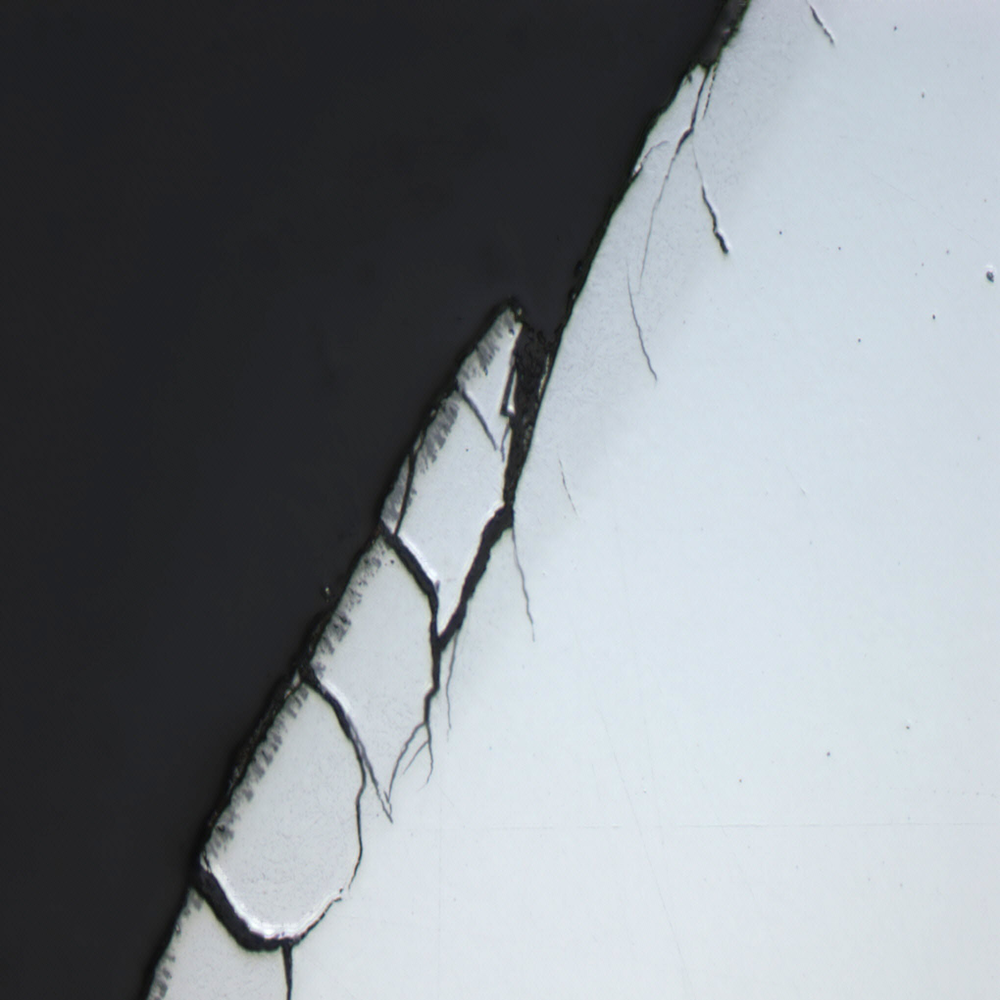crack: (184, 289, 615, 984)
